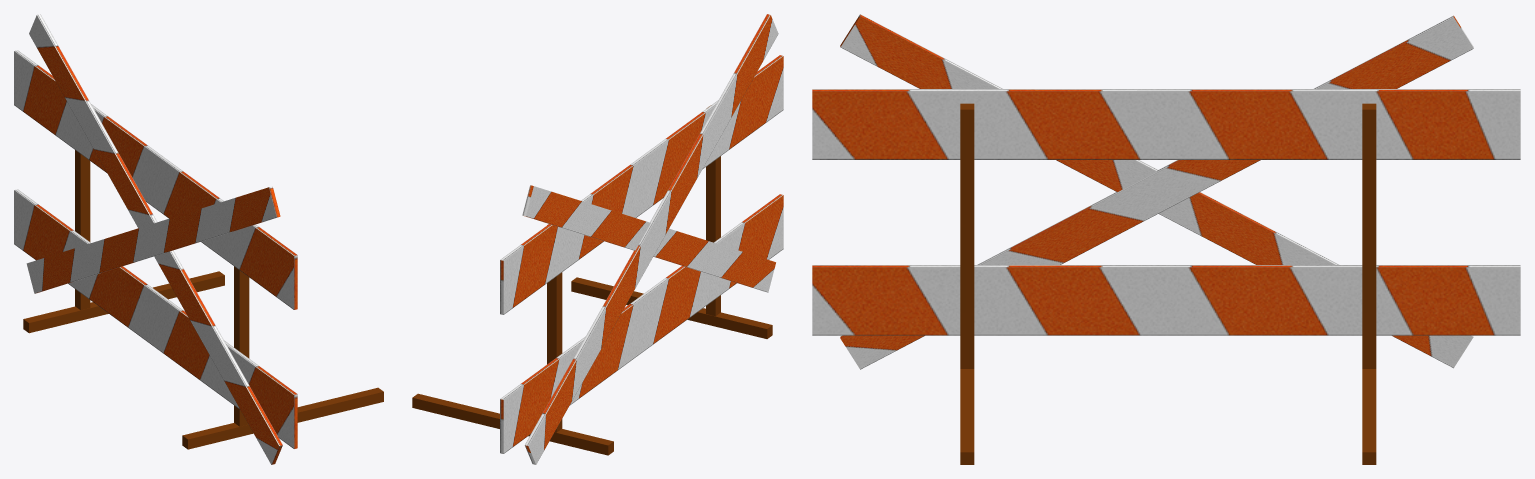
The model's file is RoadBarrier_3.fbx.
The picture shows the model from 3 angles, left to right: view 1: azimuth 30°, elevation 25°; view 2: azimuth 150°, elevation 25°; view 3: azimuth 270°, elevation 25°; orthographic projection. The views are drawn at different scales.
Visible parts, largest first — view 1: Road_Barrier3; view 2: Road_Barrier3; view 3: Road_Barrier3.
Boxes of the visible parts, box(x1,y1,x2,y2) form: Road_Barrier3: box(14, 14, 383, 464); Road_Barrier3: box(412, 14, 783, 464); Road_Barrier3: box(812, 14, 1520, 464).
Bounding box in the file's own units: 3.8 × 5.21 × 9.39.
1 material, 1 textured.
